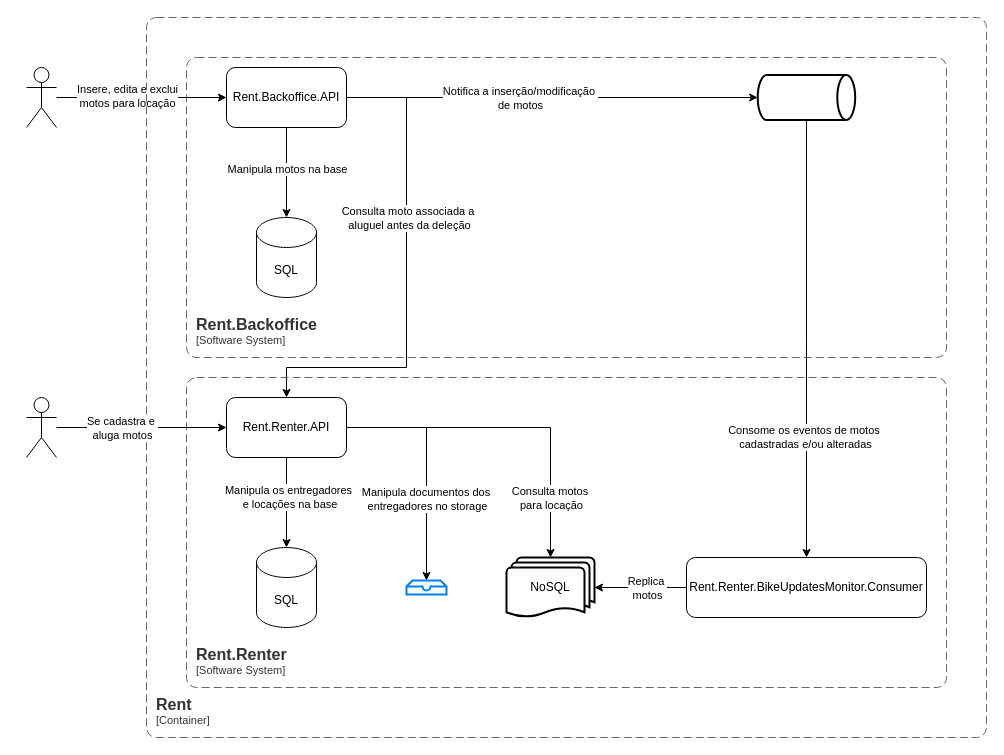
The diagram is 1004 pixels wide and 755 high, and some of its shapes have lost their labels. The shapes that lost their labels are listed below. From the top down, each one's box as (x1, y1, x2, y2) in pixels, then its label:
(26, 66, 56, 128): Admin
(756, 74, 856, 120): Message Bus
(26, 396, 56, 458): Locatário
(405, 579, 447, 595): File Storage
